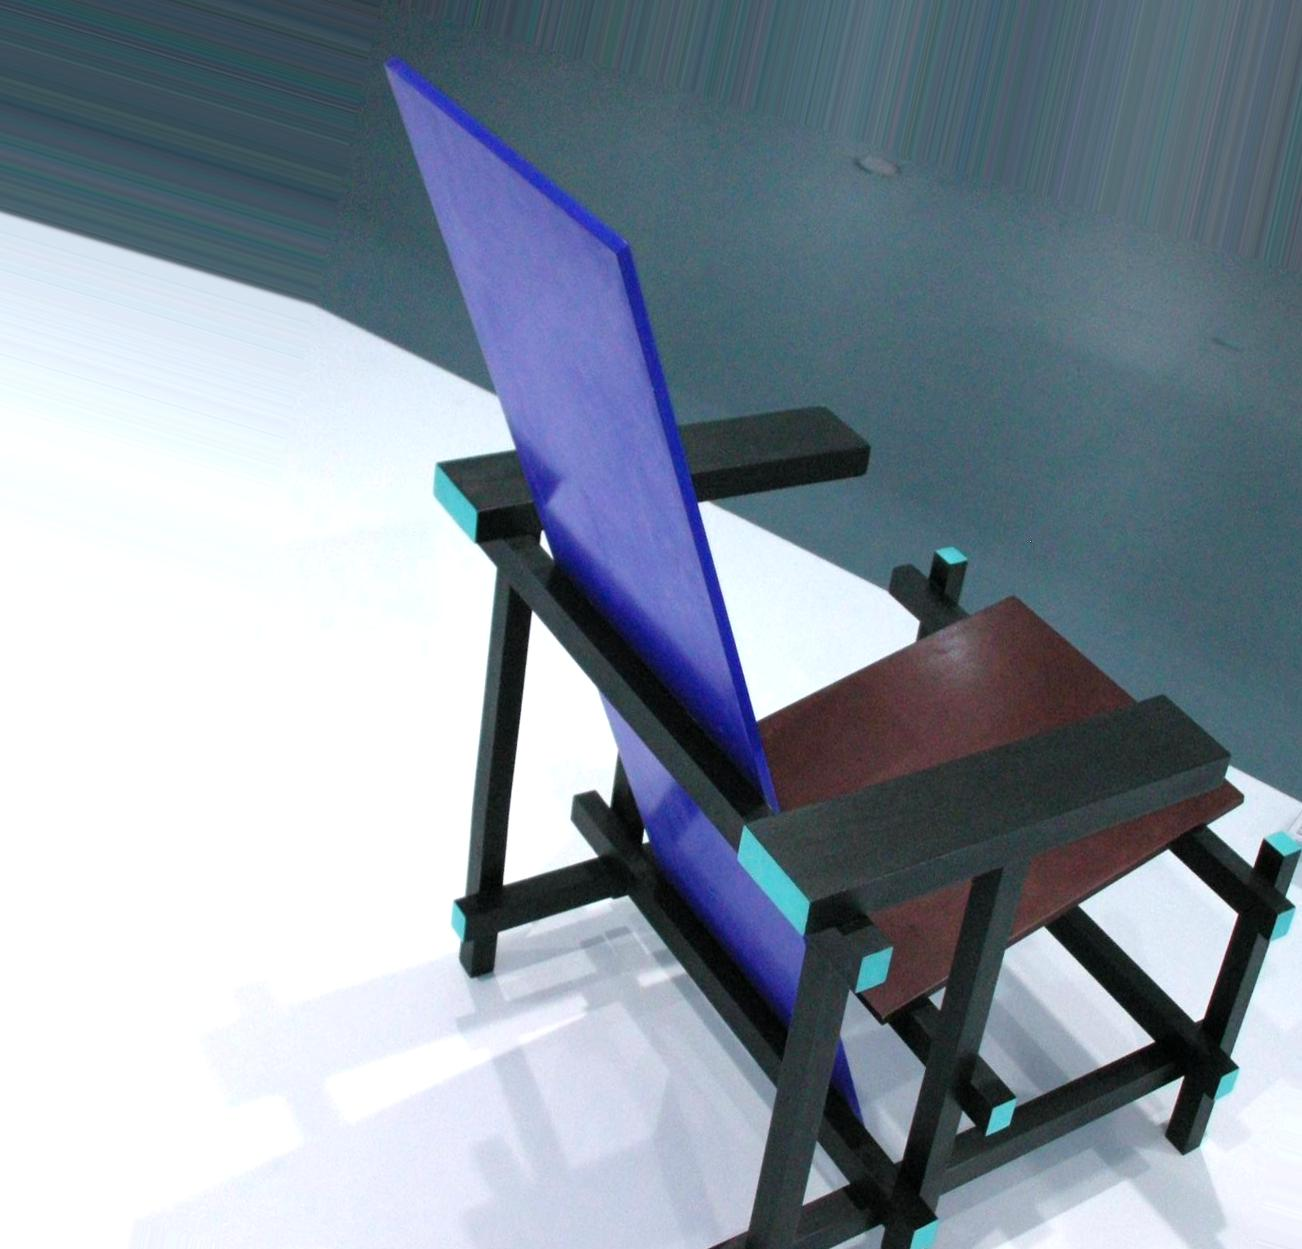chair: (371, 53, 1302, 1246)
